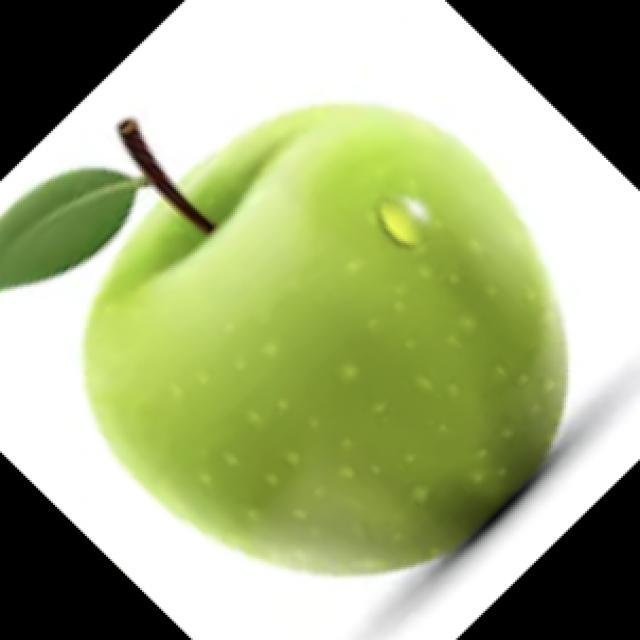Fresh Apple: (110, 110, 575, 595)
